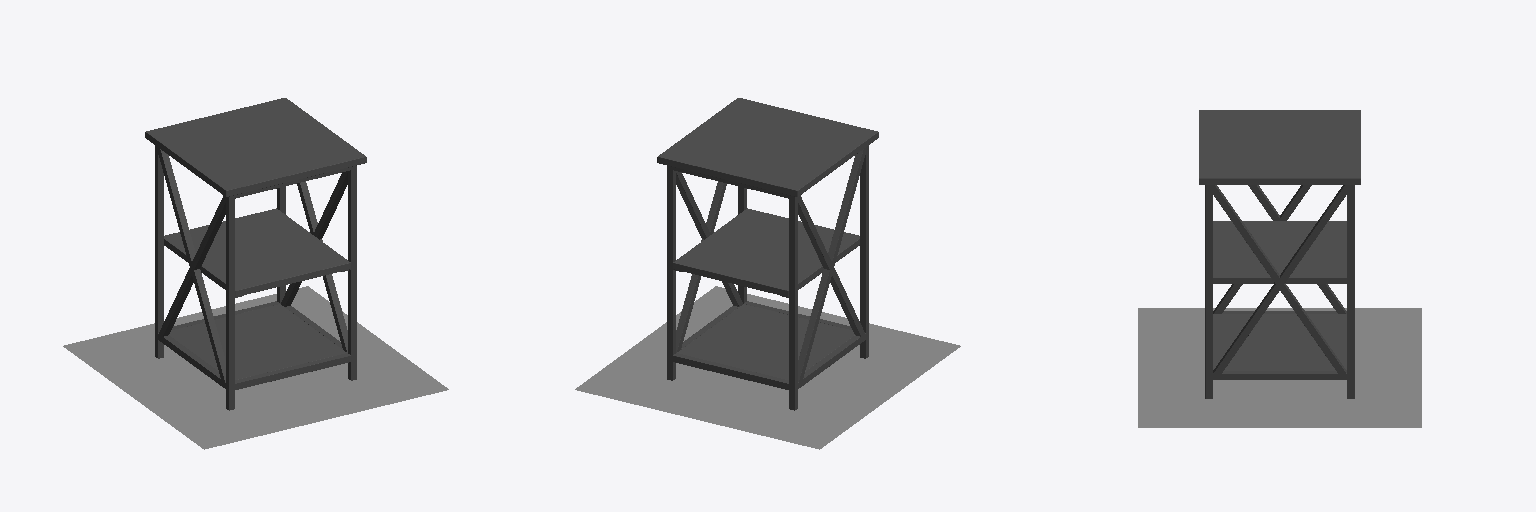
File: ANDV4440.obj
3 renders of one model, left to right at view 1: azimuth 30°, elevation 25°; view 2: azimuth 150°, elevation 25°; view 3: azimuth 270°, elevation 25°, orthographic.
Parts seen in each view (by area): view 1: not_clear_obj_0_v6, shadow_plane_v6, not_clear_obj_1_v6; view 2: not_clear_obj_0_v6, shadow_plane_v6, not_clear_obj_1_v6; view 3: not_clear_obj_0_v6, shadow_plane_v6, not_clear_obj_1_v6.
Part boxes in pixels (left/top/right/bottom): not_clear_obj_0_v6: left=145, top=98, right=366, bottom=379; shadow_plane_v6: left=63, top=286, right=448, bottom=449; not_clear_obj_1_v6: left=155, top=145, right=356, bottom=410; not_clear_obj_0_v6: left=657, top=98, right=878, bottom=379; shadow_plane_v6: left=575, top=286, right=960, bottom=449; not_clear_obj_1_v6: left=667, top=145, right=868, bottom=410; not_clear_obj_0_v6: left=1199, top=110, right=1360, bottom=370; shadow_plane_v6: left=1138, top=308, right=1421, bottom=427; not_clear_obj_1_v6: left=1205, top=185, right=1354, bottom=398.
Size of the model in its own units: 70.04 by 60.96 by 70.04.